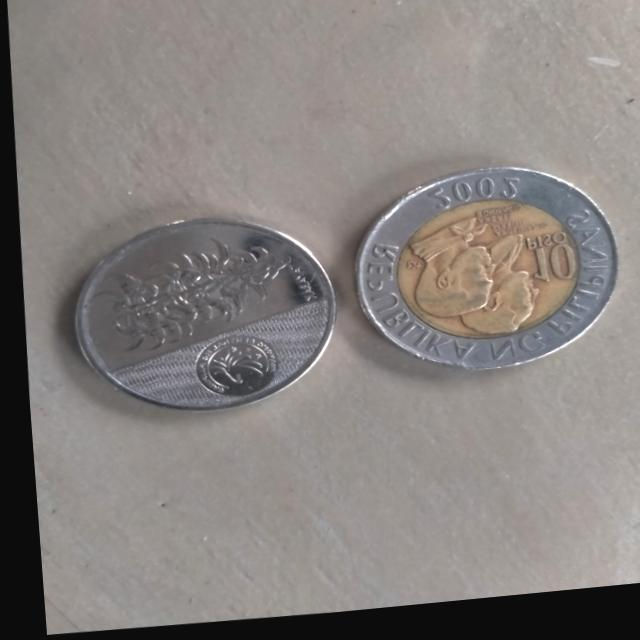10_Old_Front: (505, 235, 582, 302)
5_New_Back: (73, 221, 310, 361)
